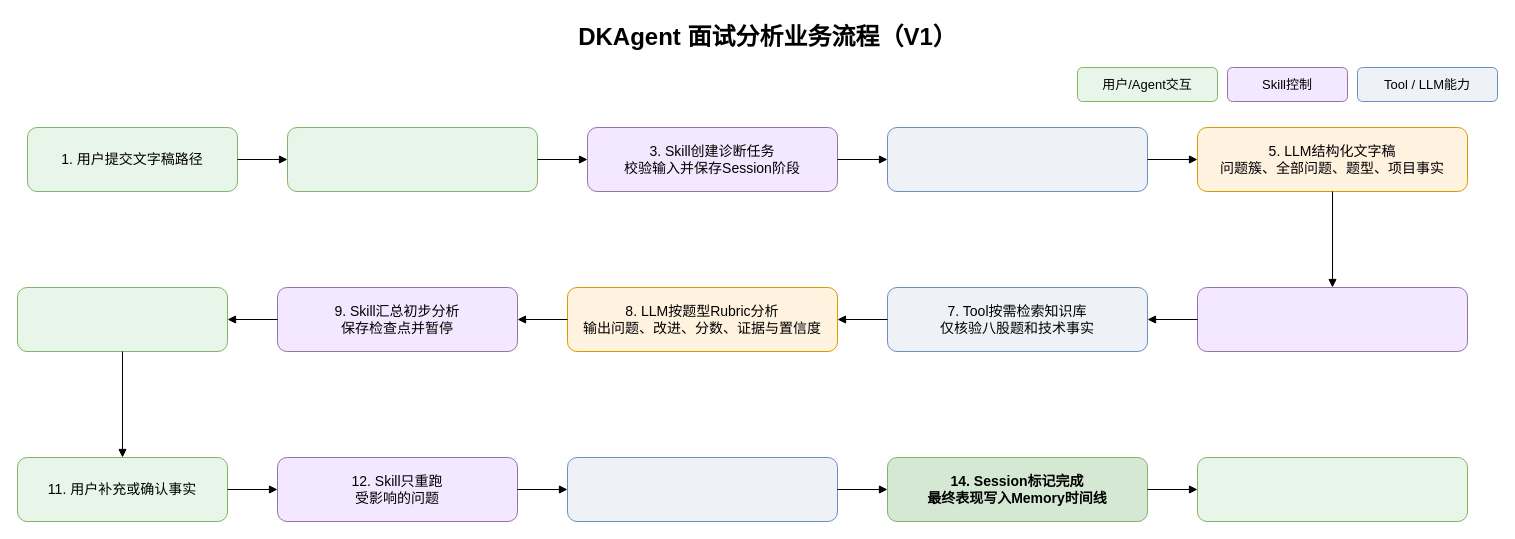
Some shapes in this 1515 by 539 pixel diagram are drawn without their labels. Here are the shapes that lost their labels. From the top down, the centre of each, then its label:
(412,159): 2. Agent提取并确认 公司、岗位、日期、轮次、可选JD
(1017,159): 4. Tool读取原始文字稿 保留原文和全部表达痕迹
(122,319): 10. Agent集中询问 3～5个高影响事实
(1332,319): 6. Skill遍历全部问题 过程性问题保留但不评分
(702,489): 13. Tool＋LLM生成最终报告 固定权重算分＋两层内容
(1332,489): 15. Agent交付报告 面试分析＋全部具体问题
